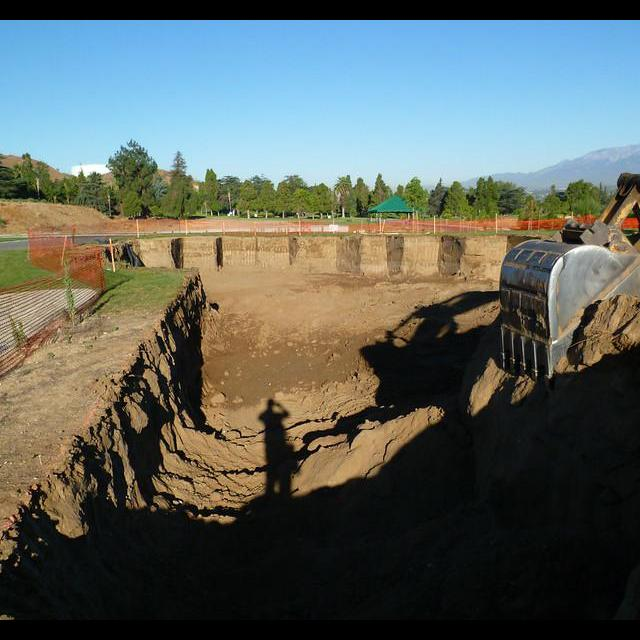Excavator: (494, 109, 640, 384)
